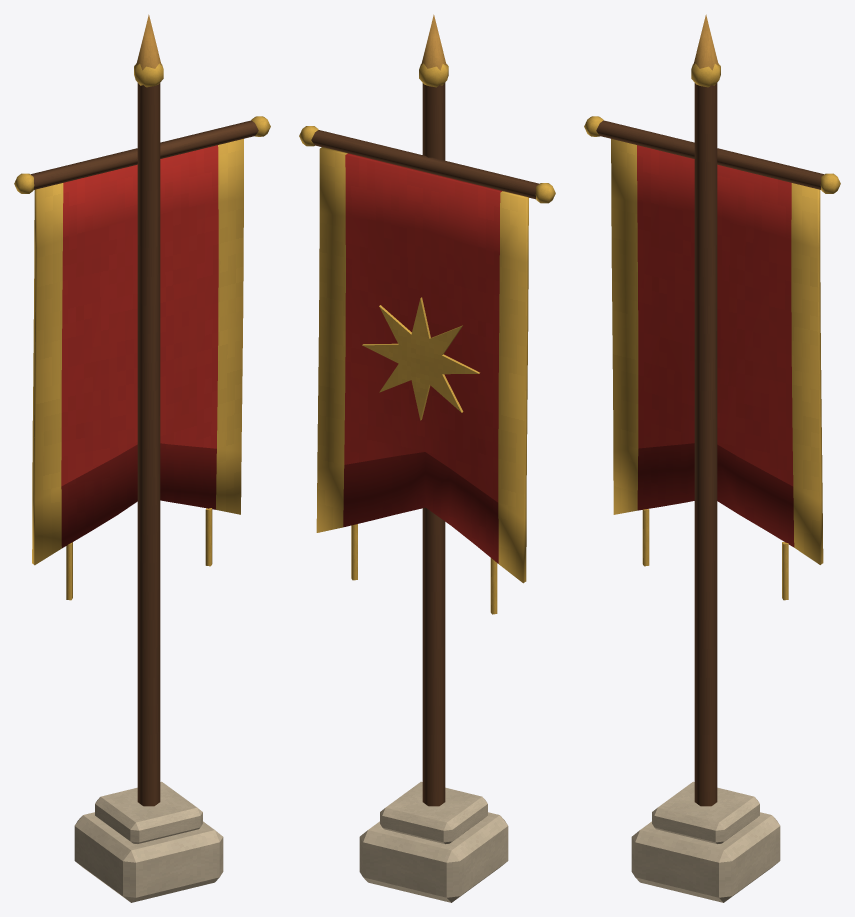
File: stendardo_acheo.glb
3 views of the same model, side by side, from view 1: azimuth 30°, elevation 25°; view 2: azimuth 150°, elevation 25°; view 3: azimuth 330°, elevation 25° (orthographic).
Visible parts, largest first — view 1: SM_stendardo_acheo; view 2: SM_stendardo_acheo; view 3: SM_stendardo_acheo.
Boxes of the visible parts, x1,y1,x2,y2 form: SM_stendardo_acheo: [14, 14, 270, 902]; SM_stendardo_acheo: [299, 14, 555, 902]; SM_stendardo_acheo: [584, 14, 840, 902].
Bounding box in the file's own units: 0.9006 × 2.95 × 0.36.
Materials: 1 (1 with a texture image).
